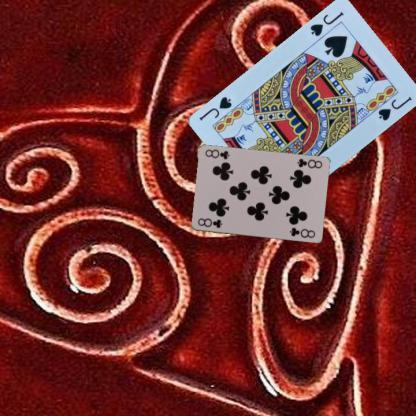8c: (194, 216, 224, 230), (294, 156, 324, 170)
Js: (308, 9, 346, 38)
